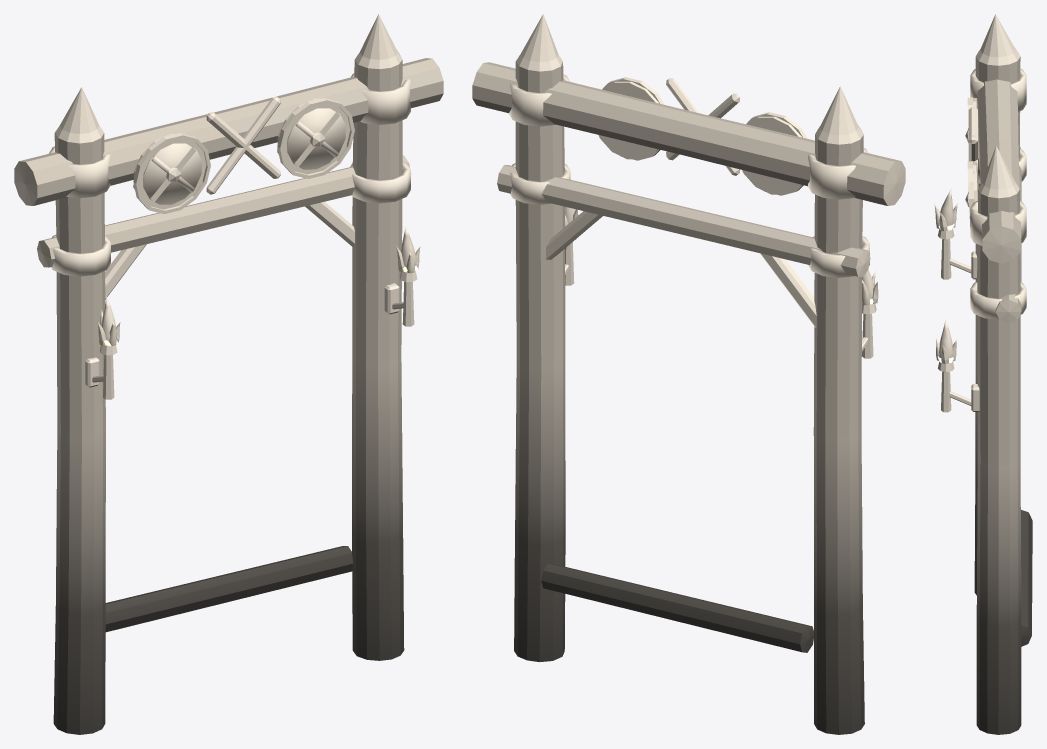
File: SM_VK_Palisade_Gate.fbx
3 renders of one model, left to right at view 1: azimuth 30°, elevation 25°; view 2: azimuth 150°, elevation 25°; view 3: azimuth 270°, elevation 25°, orthographic. The views are drawn at different scales.
Visible parts, largest first — view 1: SM_VK_Palisade_Gate.001; view 2: SM_VK_Palisade_Gate.001; view 3: SM_VK_Palisade_Gate.001.
Boxes of the visible parts, left/top/right/bottom form: SM_VK_Palisade_Gate.001: left=14, top=14, right=443, bottom=734; SM_VK_Palisade_Gate.001: left=472, top=14, right=905, bottom=734; SM_VK_Palisade_Gate.001: left=934, top=14, right=1032, bottom=734.
Bounding box in the file's own units: 4.12 × 6.1 × 0.9406.
